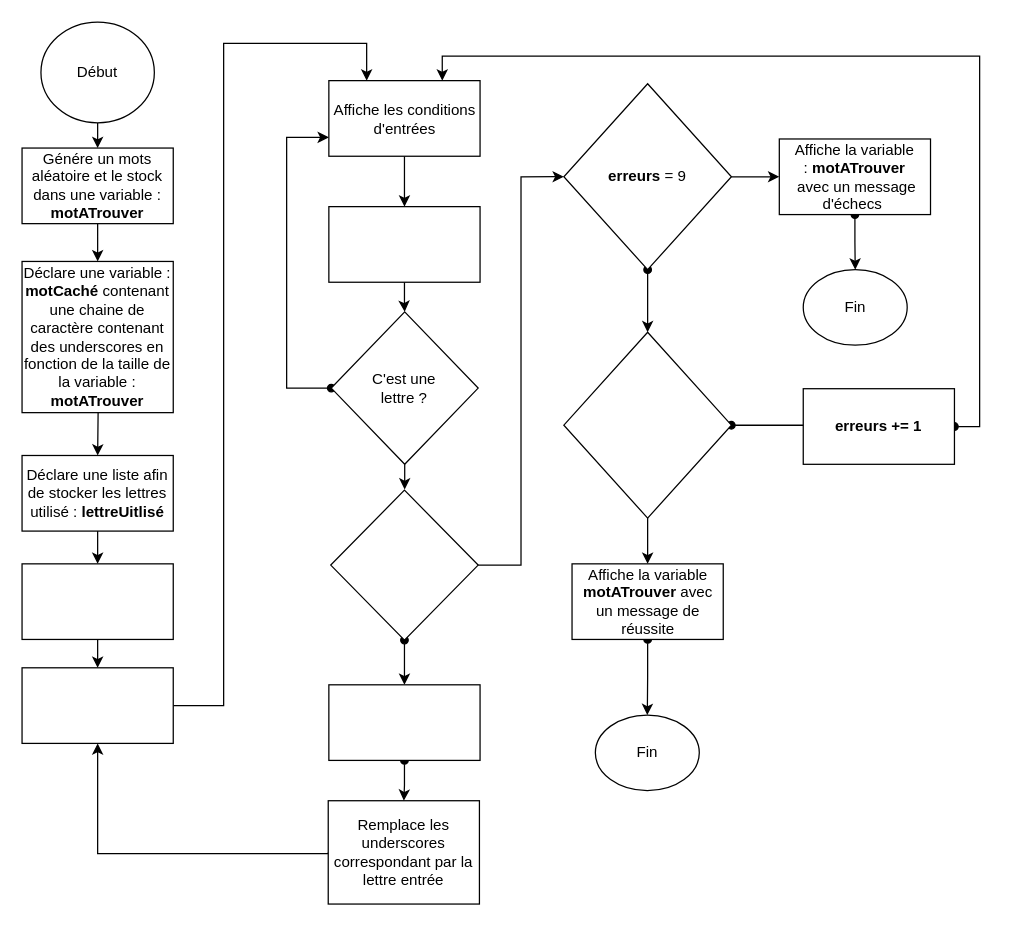
Image size: 1013x926. Some labels were removed from this diagram. The shapes that lost their labels are listed below. From the top down, each one's centre as x and y in pixels, then its label:
At pixel 404 243: "Demande une entrée".
At pixel 647 424: "motCaché = motATrouver".
At pixel 403 564: "Déja été utiliser ?".
At pixel 97 601: "Déclare une variable : erreurs".
At pixel 97 705: "Affiche le variable : motCaché".
At pixel 404 722: "Ajoute la lettre à la liste : lettreUitlisé".
